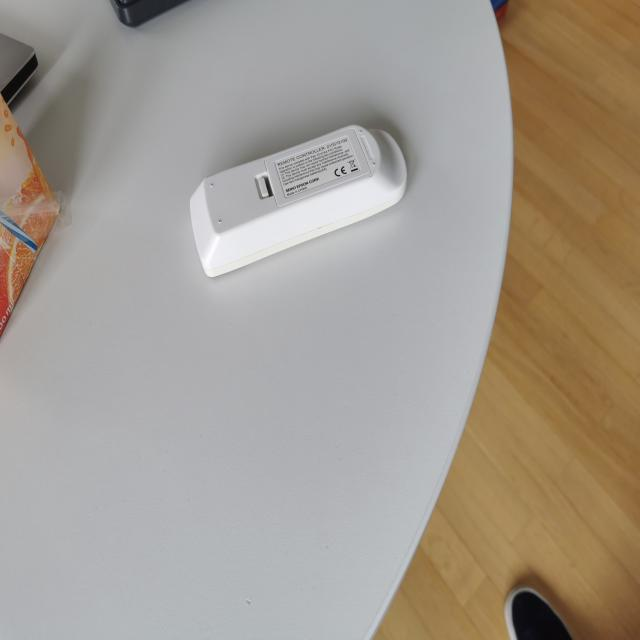remote: (189, 124, 408, 275)
